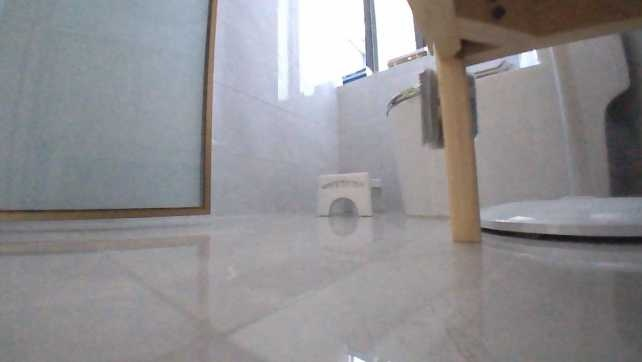chair_base: (479, 185, 641, 243)
door_anno: (0, 0, 220, 222)
toilet: (381, 43, 575, 219)
